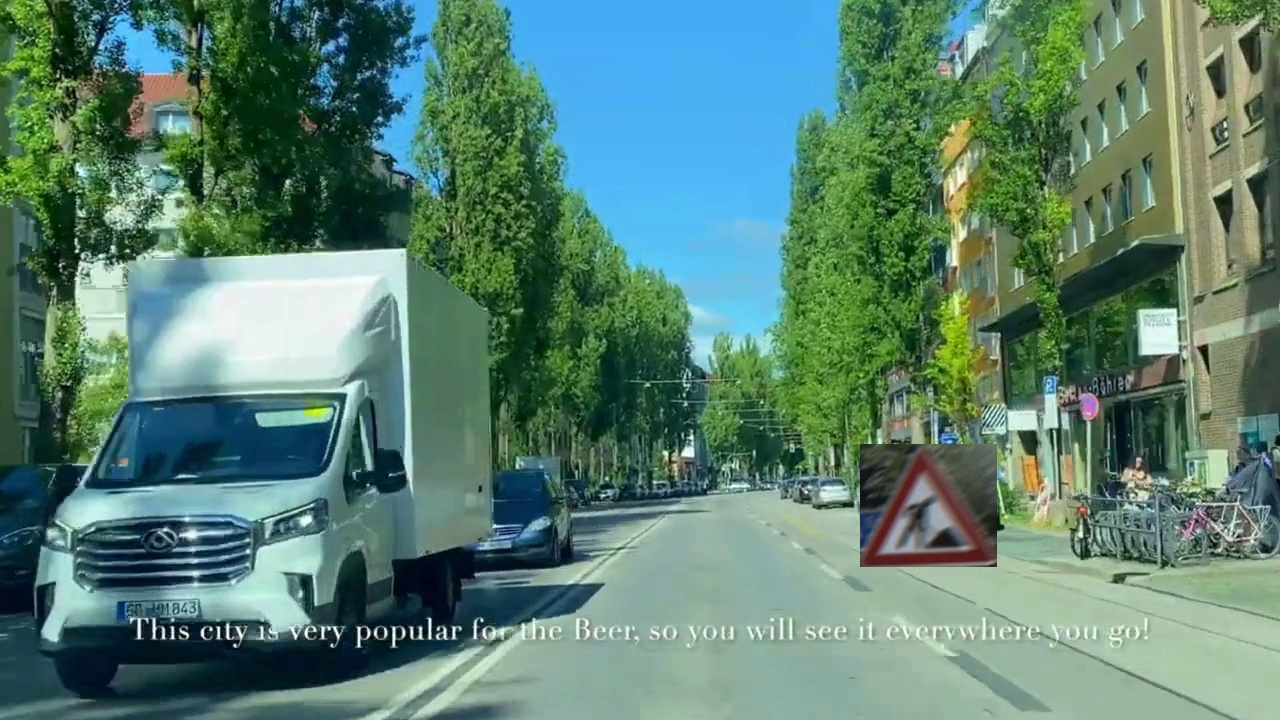Road work: (860, 444, 997, 567)
